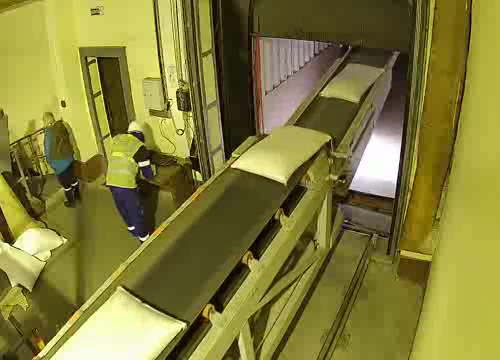bag: (47, 283, 195, 360), (229, 122, 335, 187), (317, 63, 388, 108)
